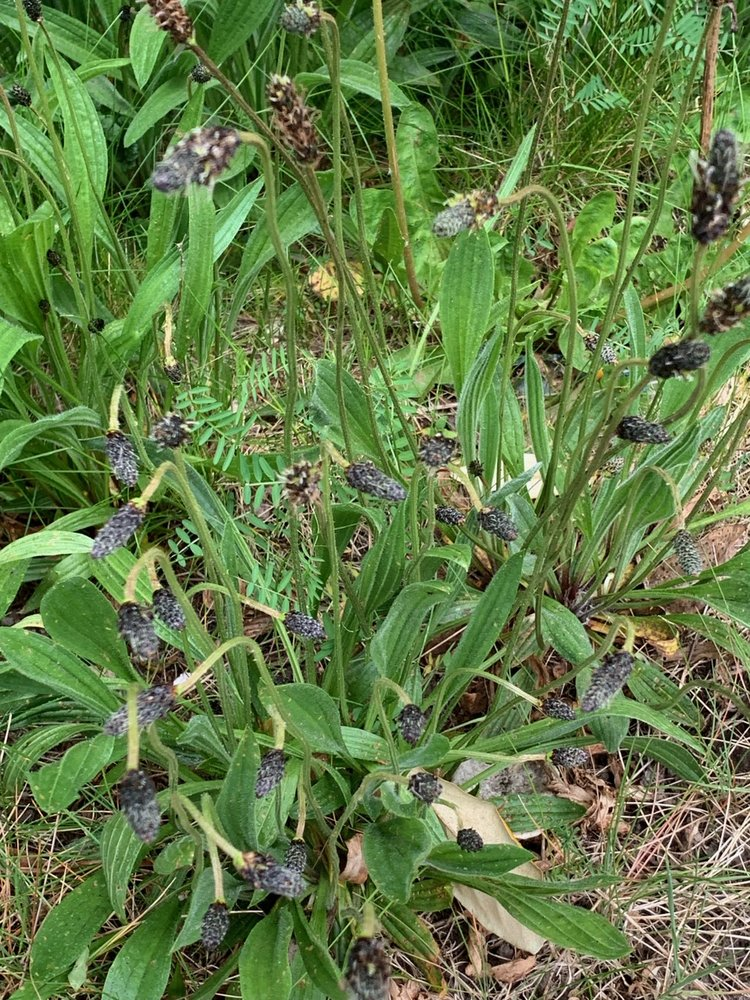buckhorn plantain: (51, 6, 690, 924)
